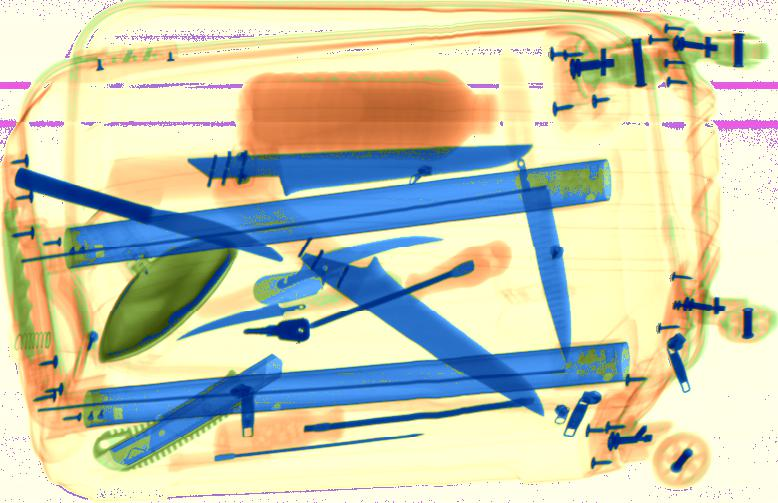Knife: (289, 238, 547, 417), (13, 166, 284, 261), (147, 142, 537, 201), (510, 156, 574, 362), (266, 233, 447, 291), (177, 292, 338, 339), (251, 265, 328, 306)
